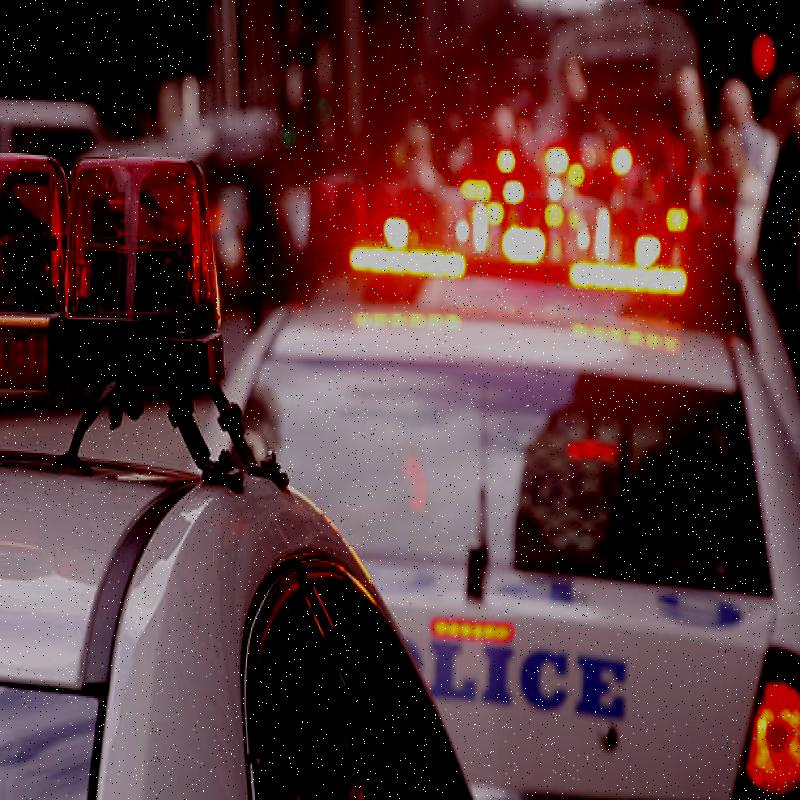AmbulanceSiren: (0, 141, 230, 435)
